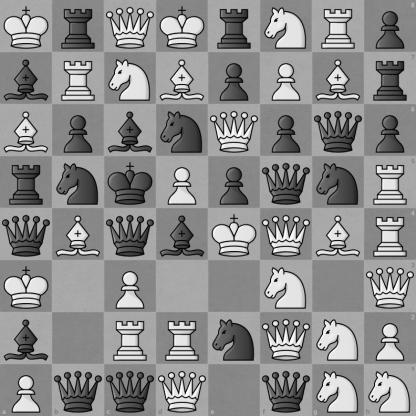B: (1, 105, 52, 156), (53, 209, 104, 260), (157, 53, 208, 104), (313, 53, 364, 104), (313, 209, 364, 260)
K: (1, 1, 52, 52), (1, 261, 52, 312), (157, 1, 208, 52), (209, 209, 260, 260)
N: (312, 364, 364, 416), (364, 364, 416, 416), (105, 53, 156, 104), (261, 1, 312, 52), (261, 261, 312, 312), (313, 313, 364, 364)
P: (0, 364, 52, 416), (364, 312, 416, 364), (105, 261, 156, 312), (157, 157, 208, 208), (261, 53, 312, 104)
Q: (156, 364, 209, 416), (364, 260, 416, 312), (105, 1, 156, 52), (209, 105, 260, 156), (261, 209, 312, 260), (261, 313, 312, 364)
R: (364, 156, 416, 209), (364, 209, 416, 260), (53, 53, 104, 104), (105, 313, 156, 364), (157, 313, 208, 364), (313, 1, 364, 52)
b: (1, 53, 52, 104), (1, 313, 52, 364), (105, 105, 156, 156), (157, 209, 208, 260)
board: (0, 0, 415, 415)
k: (105, 157, 156, 208)
n: (53, 157, 104, 208), (157, 105, 208, 156), (209, 313, 260, 364), (313, 157, 364, 208)
p: (364, 0, 416, 52), (364, 104, 416, 156), (53, 105, 104, 156), (209, 53, 260, 104), (209, 157, 260, 208), (261, 105, 312, 156)
q: (52, 364, 104, 416), (104, 364, 156, 416), (260, 364, 312, 416), (1, 209, 52, 260), (105, 209, 156, 260), (261, 157, 312, 208), (313, 105, 364, 156)
r: (364, 52, 416, 104), (1, 157, 52, 208), (53, 1, 104, 52), (209, 1, 260, 52)
